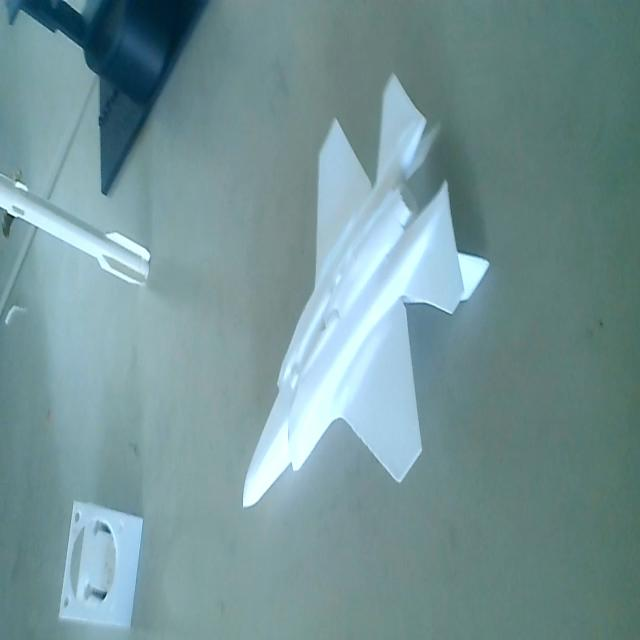Jet: (236, 67, 492, 528)
Rocket: (0, 162, 158, 297)
